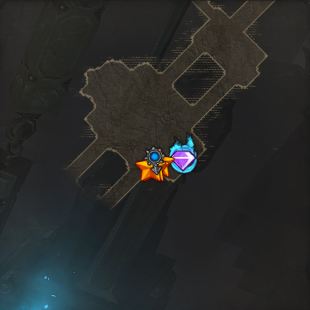Urushi: (169, 133, 198, 175)
